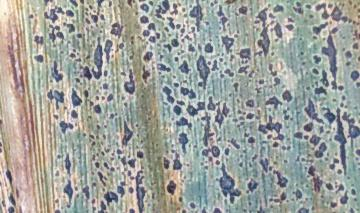tarspot: (218, 163, 241, 203), (322, 34, 338, 90), (334, 108, 347, 175), (304, 98, 324, 124), (342, 111, 360, 139), (196, 55, 210, 90), (135, 170, 146, 213), (92, 37, 103, 79), (258, 115, 282, 133), (201, 112, 213, 147), (189, 1, 203, 30), (258, 27, 270, 57), (47, 90, 64, 109), (272, 169, 288, 187), (122, 121, 133, 146), (51, 61, 64, 82), (125, 69, 135, 95), (178, 132, 189, 155), (63, 180, 74, 203), (256, 7, 268, 27), (265, 95, 282, 109), (104, 39, 113, 65), (162, 86, 175, 104), (221, 35, 234, 53), (324, 107, 336, 126), (71, 87, 82, 107), (215, 101, 223, 128), (44, 9, 59, 23), (104, 191, 118, 205), (313, 21, 328, 34), (176, 116, 192, 128), (59, 121, 73, 134), (178, 60, 190, 75), (320, 69, 330, 87), (315, 142, 327, 157), (65, 153, 72, 177), (111, 23, 122, 38), (331, 6, 342, 21), (48, 24, 55, 47), (97, 171, 107, 187), (142, 65, 150, 84), (206, 96, 216, 111), (186, 104, 198, 116), (274, 24, 283, 39), (313, 176, 322, 191), (260, 158, 269, 173), (167, 180, 176, 195), (239, 48, 251, 59), (166, 16, 176, 29), (310, 134, 320, 147), (248, 179, 258, 192), (6, 169, 13, 187), (33, 35, 45, 45), (84, 65, 92, 80), (157, 63, 170, 72), (161, 1, 170, 14), (314, 86, 327, 95), (143, 51, 153, 62), (237, 5, 248, 15), (283, 90, 293, 101), (230, 138, 240, 149), (273, 132, 285, 141), (315, 3, 327, 12), (294, 189, 303, 201), (155, 4, 162, 19), (117, 185, 125, 198), (173, 159, 182, 170), (221, 16, 228, 30), (83, 185, 90, 199), (212, 145, 220, 157), (8, 193, 16, 205), (341, 191, 348, 204), (56, 6, 65, 16), (139, 15, 149, 24), (140, 3, 149, 13), (163, 43, 172, 53), (173, 105, 182, 115), (196, 102, 206, 111), (273, 4, 283, 13), (239, 65, 249, 74), (312, 54, 321, 64), (33, 55, 44, 63), (188, 88, 196, 99), (292, 7, 303, 15), (171, 3, 178, 15), (223, 103, 229, 117), (147, 22, 156, 31), (204, 43, 213, 52), (187, 43, 196, 52), (202, 148, 211, 157), (304, 122, 313, 131), (335, 184, 344, 193), (65, 9, 75, 17), (67, 23, 75, 33), (93, 104, 101, 114), (179, 87, 189, 95), (224, 69, 234, 77), (245, 99, 255, 107), (351, 71, 359, 81), (212, 60, 219, 71), (217, 6, 224, 17), (70, 109, 78, 118), (171, 38, 179, 47), (164, 157, 170, 169), (128, 159, 136, 168), (311, 67, 320, 75), (321, 11, 330, 19), (298, 207, 310, 213), (100, 200, 108, 209), (285, 24, 295, 31), (274, 77, 281, 87), (308, 166, 315, 176), (128, 170, 134, 181), (15, 187, 20, 200), (56, 31, 64, 39), (294, 131, 302, 139), (344, 50, 352, 58), (325, 182, 333, 190), (91, 15, 98, 24), (184, 34, 193, 41), (68, 1, 78, 7), (121, 156, 127, 166), (269, 197, 281, 202), (2, 199, 8, 209), (154, 31, 161, 39), (136, 151, 144, 158), (103, 161, 110, 169), (223, 1, 237, 5), (268, 12, 276, 19), (246, 112, 254, 119), (280, 192, 287, 200), (257, 206, 265, 213), (176, 100, 185, 106), (354, 30, 360, 39), (213, 207, 222, 213), (118, 42, 125, 49), (120, 70, 127, 77), (331, 26, 338, 33), (8, 206, 15, 213), (102, 82, 108, 90), (142, 30, 150, 36), (172, 82, 180, 88), (233, 83, 239, 91), (255, 51, 263, 57), (282, 107, 290, 113), (342, 15, 348, 23), (353, 42, 359, 50), (252, 154, 258, 162), (229, 54, 235, 62), (44, 1, 53, 6), (127, 1, 134, 7), (96, 1, 103, 7), (107, 94, 113, 101), (255, 88, 262, 94), (248, 137, 255, 143), (305, 4, 312, 10), (283, 114, 290, 120), (249, 71, 255, 78), (327, 2, 333, 9), (345, 60, 351, 67), (331, 201, 337, 208), (84, 90, 89, 98), (210, 1, 218, 6), (91, 154, 96, 162), (287, 18, 295, 23), (268, 63, 273, 71), (99, 15, 105, 21), (85, 18, 91, 24), (149, 36, 155, 42), (190, 26, 196, 32), (89, 134, 95, 140), (104, 147, 110, 153), (271, 70, 277, 76), (273, 141, 279, 147), (356, 148, 360, 157), (333, 158, 339, 164), (74, 78, 81, 83), (76, 33, 83, 38), (74, 57, 81, 62), (103, 70, 108, 77), (123, 101, 128, 108), (163, 26, 170, 31), (197, 44, 202, 51), (116, 149, 123, 154), (254, 19, 261, 24), (304, 134, 309, 141), (351, 188, 356, 195), (190, 202, 195, 209), (120, 181, 127, 186), (97, 208, 104, 213), (129, 208, 136, 213), (351, 138, 354, 149), (130, 36, 134, 44), (225, 147, 229, 155), (320, 126, 324, 134), (28, 14, 34, 19), (55, 25, 60, 31), (70, 53, 76, 58), (53, 115, 59, 120), (95, 95, 100, 101), (88, 100, 94, 105), (100, 95, 106, 100), (109, 113, 114, 119), (84, 11, 89, 17), (95, 163, 100, 169), (182, 78, 187, 84), (59, 49, 65, 54), (258, 79, 264, 84), (295, 1, 301, 6), (232, 118, 238, 123), (243, 132, 249, 137), (267, 134, 273, 139), (305, 86, 311, 91), (339, 85, 344, 91), (341, 95, 346, 101), (339, 102, 344, 108), (330, 164, 335, 170), (349, 207, 354, 213), (202, 207, 207, 213), (295, 156, 300, 162), (129, 187, 134, 193), (55, 198, 60, 204), (241, 59, 248, 63), (181, 209, 188, 213), (151, 192, 155, 199), (54, 209, 61, 213), (149, 1, 154, 6), (85, 54, 90, 59), (88, 5, 93, 10), (176, 23, 181, 28), (181, 7, 186, 12), (204, 21, 209, 26), (110, 167, 115, 172), (101, 151, 106, 156), (270, 51, 275, 56), (348, 18, 353, 23), (348, 1, 353, 6), (337, 169, 342, 174), (269, 166, 274, 171), (301, 157, 306, 162), (92, 182, 97, 187), (55, 171, 60, 176), (66, 204, 71, 209), (235, 29, 240, 34), (274, 38, 279, 43), (174, 56, 178, 62), (181, 28, 185, 34), (102, 133, 106, 139), (135, 10, 139, 16), (170, 149, 176, 153), (216, 159, 220, 165), (57, 153, 61, 159), (309, 13, 313, 19), (312, 36, 318, 40), (356, 81, 360, 87), (179, 196, 183, 202), (160, 54, 163, 61), (239, 122, 246, 125), (129, 55, 133, 60), (82, 133, 87, 137), (91, 142, 96, 146), (87, 115, 92, 119), (103, 124, 107, 129), (208, 157, 213, 161), (220, 73, 224, 78), (219, 58, 224, 62), (95, 135, 100, 139), (184, 13, 188, 18), (240, 115, 244, 120), (237, 110, 242, 114), (234, 34, 239, 38), (353, 20, 357, 25), (287, 145, 291, 150), (311, 206, 315, 211), (283, 159, 288, 163), (315, 81, 319, 86), (205, 165, 209, 170), (75, 186, 79, 191), (242, 149, 247, 153), (298, 37, 303, 41), (248, 201, 252, 206), (79, 1, 85, 4), (109, 1, 112, 7), (92, 198, 95, 204), (63, 22, 67, 26), (181, 39, 185, 43), (99, 29, 103, 33), (172, 75, 176, 79), (85, 7, 89, 11), (1, 117, 3, 125), (177, 51, 181, 55), (300, 52, 304, 56), (332, 98, 336, 102), (282, 146, 286, 150), (326, 130, 330, 134), (200, 162, 204, 166), (76, 194, 80, 198), (97, 124, 100, 129), (79, 66, 84, 69), (357, 7, 360, 12), (302, 61, 305, 66), (237, 98, 240, 103), (1, 147, 3, 154), (358, 56, 360, 63), (73, 49, 76, 53), (135, 124, 139, 127), (1, 141, 3, 147), (168, 34, 172, 37), (181, 50, 185, 53), (357, 14, 360, 18), (229, 93, 232, 97), (162, 75, 165, 79), (209, 39, 212, 43), (354, 198, 357, 201)
